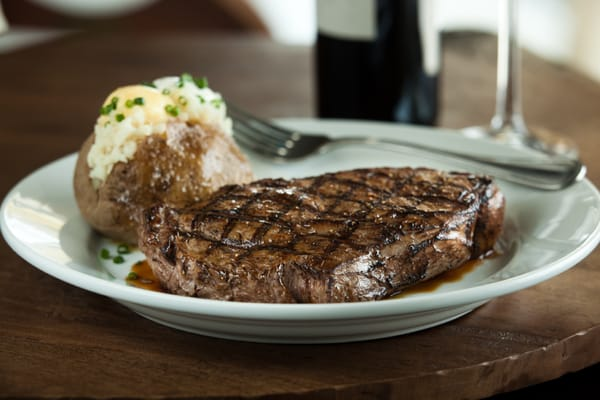burger: (227, 100, 592, 163), (227, 100, 369, 159)
